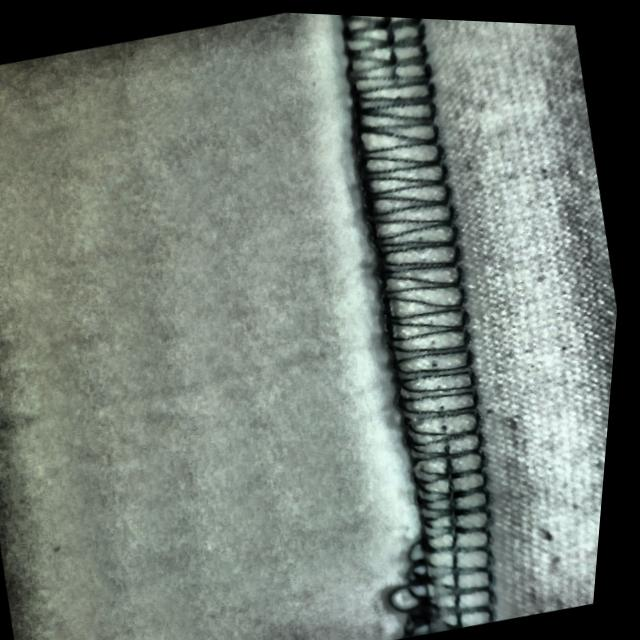Stitch: (379, 512, 522, 640)
